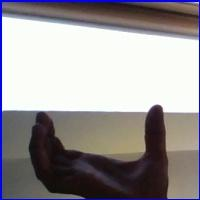space: (20, 101, 185, 194)
